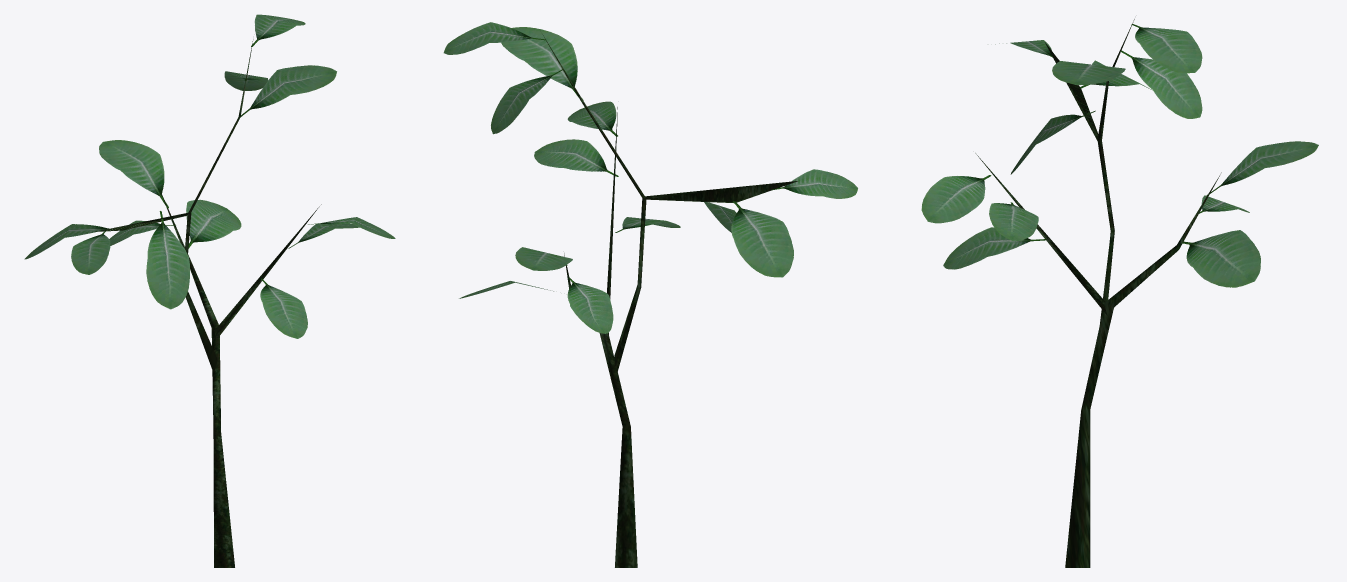
The model's file is leaf_sapling_l1.fbx.
The picture shows the model from 3 angles, left to right: view 1: azimuth 30°, elevation 25°; view 2: azimuth 150°, elevation 25°; view 3: azimuth 270°, elevation 25°; orthographic projection. The views are drawn at different scales.
Parts seen in each view (by area): view 1: mesh_node; view 2: mesh_node; view 3: mesh_node.
Part boxes in pixels (x1=…): mesh_node: x1=24, y1=14, x2=395, y2=567; mesh_node: x1=443, y1=22, x2=857, y2=567; mesh_node: x1=921, y1=19, x2=1318, y2=567.
Size of the model in its own units: 1.49 by 2.15 by 1.46.
1 material, 1 textured.
